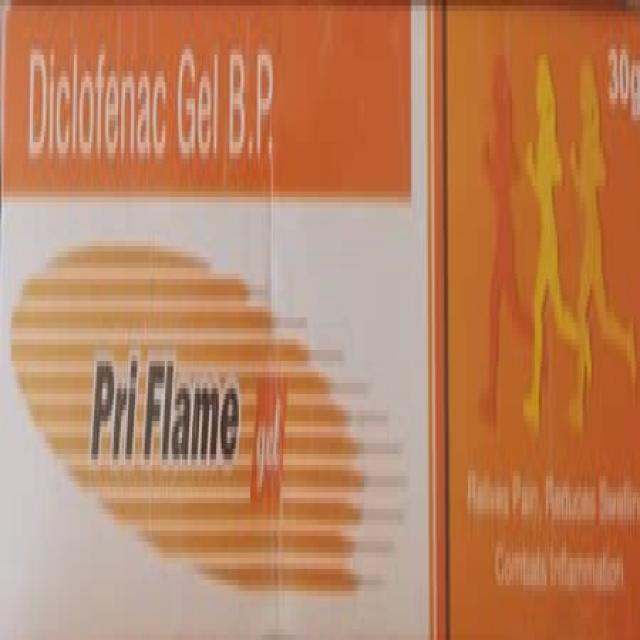drug-name: (87, 351, 245, 466)
